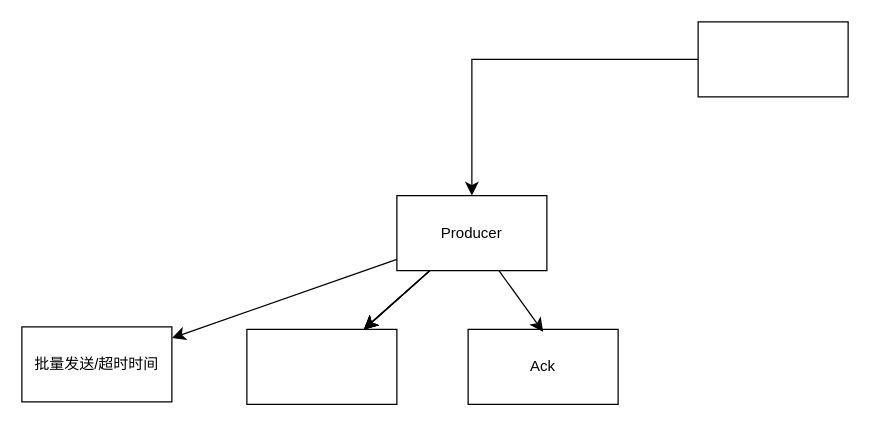
Image size: 870x426. Some labels were removed from this diagram. Here are the shapes that lost their labels. From the top down, the centre of each, then its label:
At point (772, 59): "Kafka".
At point (321, 366): "压缩".
